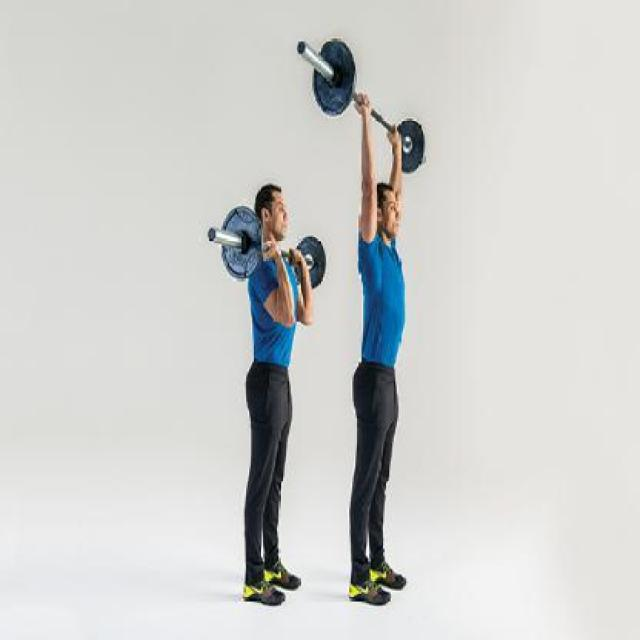barbell: (295, 38, 361, 118), (207, 205, 271, 280)
